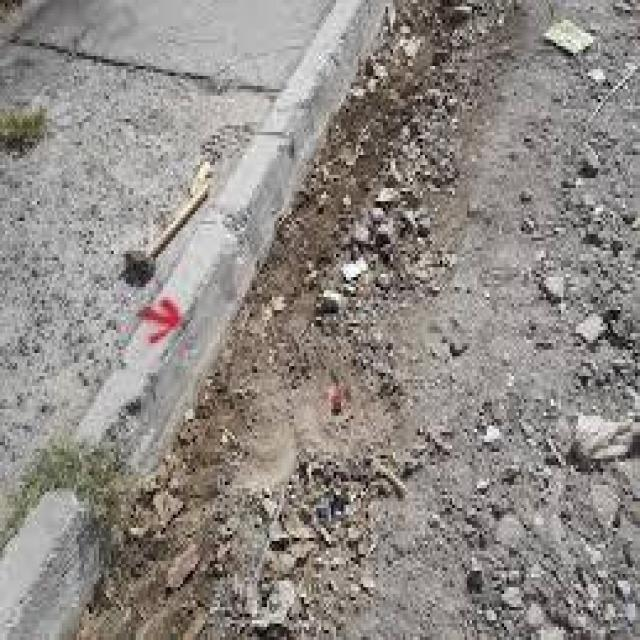bump: (275, 8, 399, 202)
